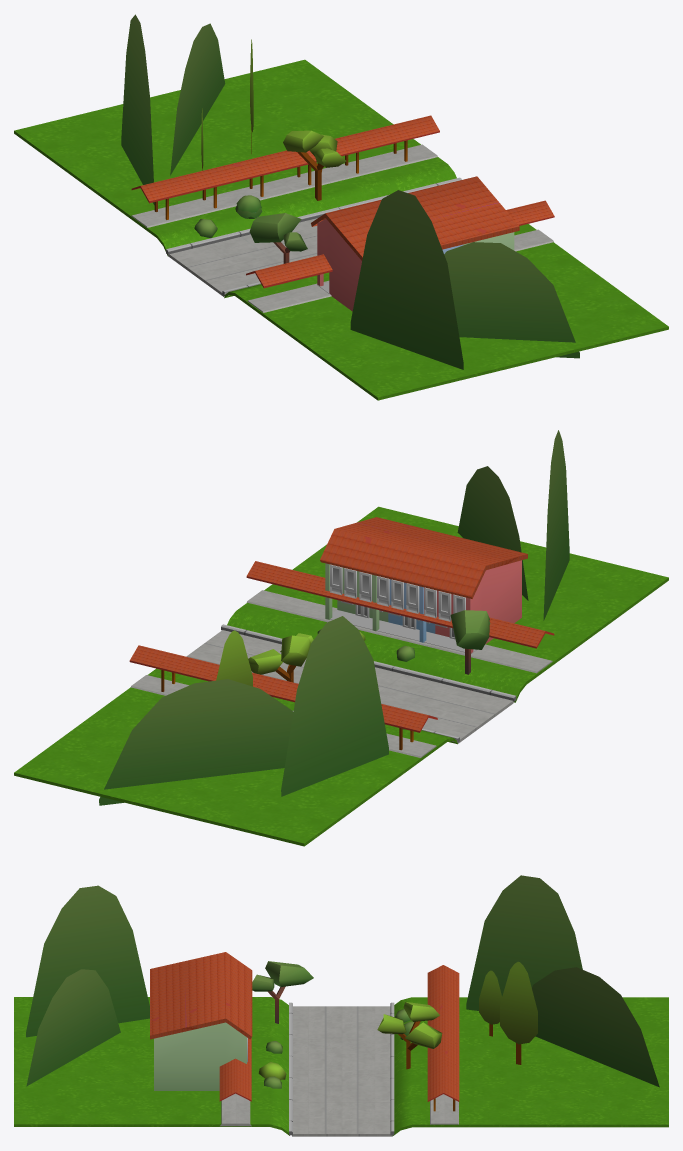
Rendered from Level 1 Chunk 1 V3.fbx.
3 views of the same model, one above another, from view 1: azimuth 30°, elevation 25°; view 2: azimuth 150°, elevation 25°; view 3: azimuth 270°, elevation 25° (orthographic). The views are drawn at different scales.
Parts seen in each view (by area): view 1: pCube9202, pCube9203, pasted__pCube5743, pasted__pasted__pCube5625, Triple_shop_houses24, pCube9016, pCube8979, pCube8981, pasted__pasted__pCube5624, pasted__pCube5742, pCube15838, pCube8965 (+3 smaller); view 2: pCube9202, Triple_shop_houses24, pCube9203, pasted__pasted__pCube5624, pasted__pCube5742, pCube8979, pasted__pasted__pCube5625, pCube15838, pCube9016, pasted__pCube5743, pCube15836, pCube8965 (+4 smaller); view 3: pCube9202, pCube9203, pCube8979, Triple_shop_houses24, pasted__pCube5743, pasted__pasted__pCube5624, pasted__pCube5742, pasted__pasted__pCube5625, pCube9016, Tall_round_pine_tree15, pCube8965, polySurface999 (+6 smaller).
Boxes of the visible parts, box(x1,y1,x2,y2) form: pCube9202: box(14, 59, 456, 255); pCube9203: box(224, 224, 668, 400); pasted__pCube5743: box(350, 190, 463, 369); pasted__pasted__pCube5625: box(444, 242, 579, 358); Triple_shop_houses24: box(311, 176, 519, 311); pCube9016: box(131, 115, 439, 203); pCube8979: box(168, 218, 317, 296); pCube8981: box(131, 144, 437, 227); pasted__pasted__pCube5624: box(170, 23, 225, 175); pasted__pCube5742: box(121, 14, 154, 205); pCube15838: box(246, 200, 554, 288); pCube8965: box(283, 130, 346, 200); pCube9202: box(14, 668, 457, 846); Triple_shop_houses24: box(320, 517, 527, 653); pCube9203: box(227, 506, 668, 702); pasted__pasted__pCube5624: box(99, 679, 293, 805); pasted__pCube5742: box(281, 616, 388, 796); pCube8979: box(186, 630, 513, 743); pasted__pasted__pCube5625: box(457, 466, 528, 600); pCube15838: box(246, 561, 554, 648); pCube9016: box(129, 645, 437, 732); pasted__pCube5743: box(543, 430, 569, 620); pCube15836: box(246, 590, 552, 673); pCube8965: box(248, 633, 313, 682); pCube9202: box(392, 997, 668, 1135); pCube9203: box(14, 997, 289, 1135); pCube8979: box(292, 1006, 392, 1136); Triple_shop_houses24: box(150, 952, 252, 1090); pasted__pCube5743: box(26, 885, 149, 1037); pasted__pasted__pCube5624: box(532, 967, 659, 1087); pasted__pCube5742: box(466, 875, 582, 1010); pasted__pasted__pCube5625: box(26, 969, 120, 1086); pCube9016: box(427, 965, 459, 1101); Tall_round_pine_tree15: box(500, 961, 537, 1064); pCube8965: box(377, 1002, 442, 1069); polySurface999: box(252, 961, 313, 1023).
Size of the model in its own units: 12.36 by 6.94 by 26.56.
Materials: 2 (2 with a texture image).
